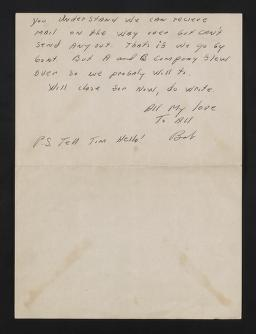page: (16, 14, 241, 317)
